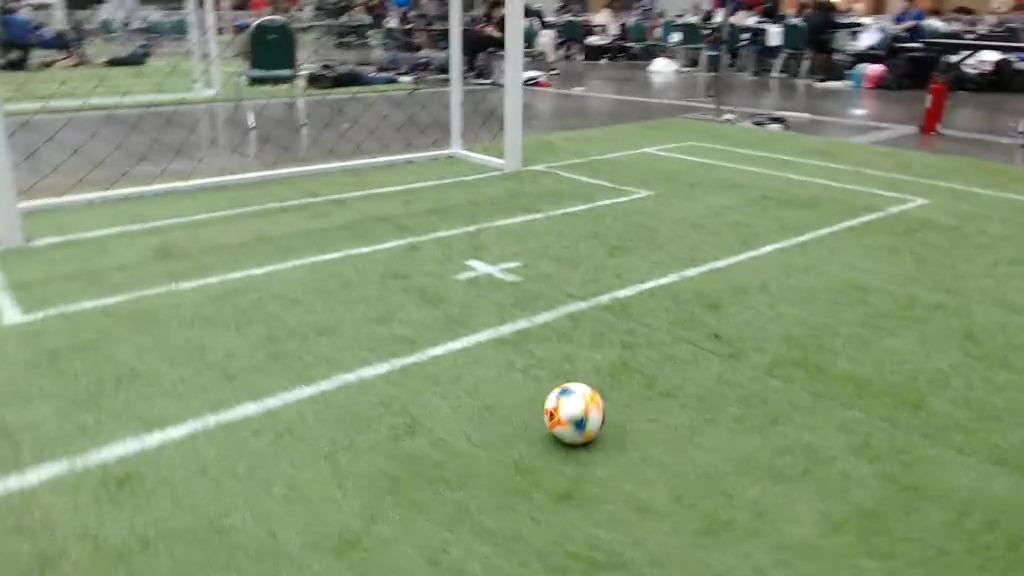ball: (535, 363, 616, 452)
